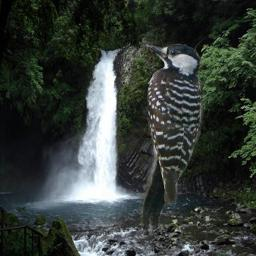Woodpecker: (138, 39, 206, 235)
